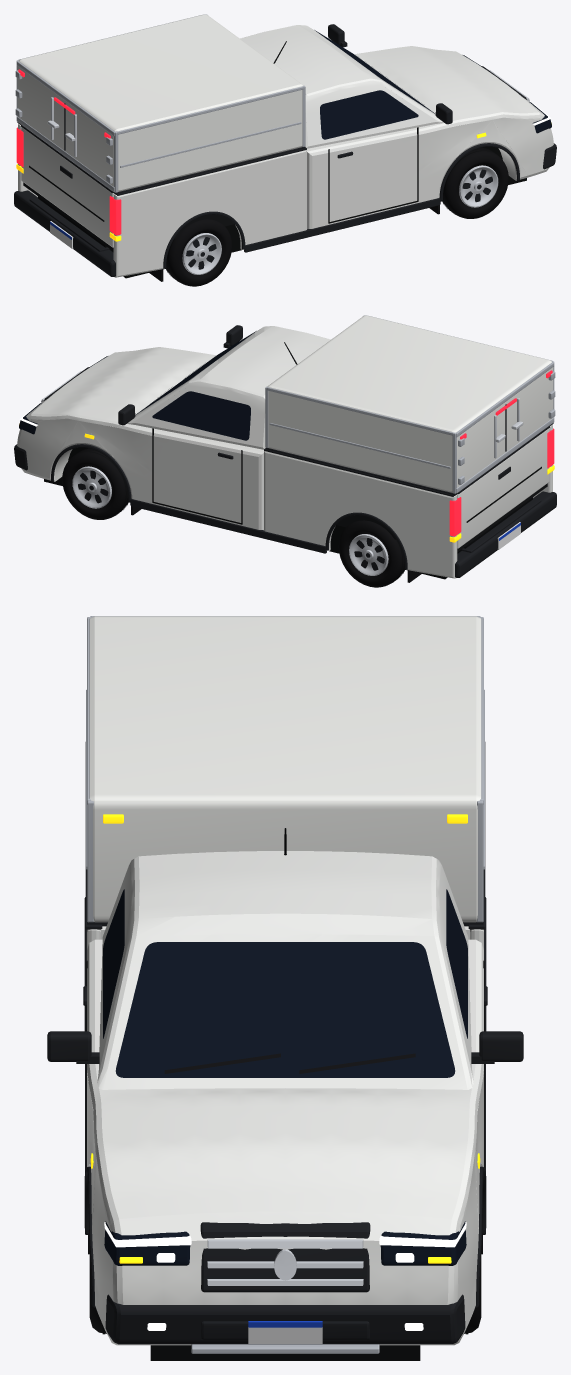
File: saveiro.glb
3 views of the same model, one above another, from view 1: azimuth 30°, elevation 25°; view 2: azimuth 150°, elevation 25°; view 3: azimuth 270°, elevation 25° (orthographic). The views are drawn at different scales.
Parts seen in each view (by area): view 1: pintura, bau, plastico, borracha, vidro, aco, cromado, assoalho, lanterna, forro; view 2: pintura, bau, plastico, borracha, vidro, aco, cromado, assoalho, lanterna, forro; view 3: pintura, bau, vidro, plastico, aco, cromado, assoalho, farol, borracha, placa.
Part boxes in pixels (left/top/right/bottom): pintura: left=18, top=25, right=553, bottom=277; bau: left=17, top=14, right=303, bottom=191; plastico: left=14, top=24, right=556, bottom=276; borracha: left=148, top=80, right=508, bottom=286; vidro: left=315, top=30, right=551, bottom=139; aco: left=15, top=14, right=305, bottom=192; cromado: left=47, top=70, right=529, bottom=274; assoalho: left=29, top=41, right=526, bottom=279; lanterna: left=16, top=69, right=121, bottom=235; forro: left=23, top=182, right=234, bottom=251; pintura: left=17, top=326, right=552, bottom=578; bau: left=267, top=315, right=553, bottom=492; plastico: left=14, top=325, right=556, bottom=577; borracha: left=62, top=364, right=422, bottom=587; vidro: left=19, top=331, right=255, bottom=440; aco: left=265, top=315, right=555, bottom=493; cromado: left=41, top=371, right=523, bottom=575; assoalho: left=44, top=342, right=541, bottom=580; lanterna: left=449, top=370, right=554, bottom=536; forro: left=336, top=483, right=547, bottom=552; pintura: left=87, top=851, right=483, bottom=1345; bau: left=89, top=616, right=481, bottom=922; vidro: left=103, top=889, right=467, bottom=1265; plastico: left=47, top=742, right=523, bottom=1344; aco: left=86, top=616, right=484, bottom=1353; cromado: left=207, top=1239, right=363, bottom=1285; assoalho: left=86, top=828, right=484, bottom=1360; farol: left=104, top=1222, right=466, bottom=1330; borracha: left=88, top=1053, right=482, bottom=1333; placa: left=248, top=1327, right=322, bottom=1343.
Bounding box in the file's own units: 4.55 × 1.7 × 2.05.
